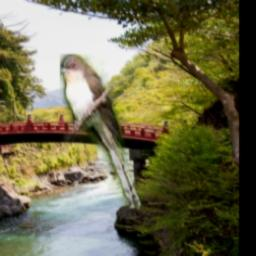Cuckoo: (60, 55, 143, 210)
